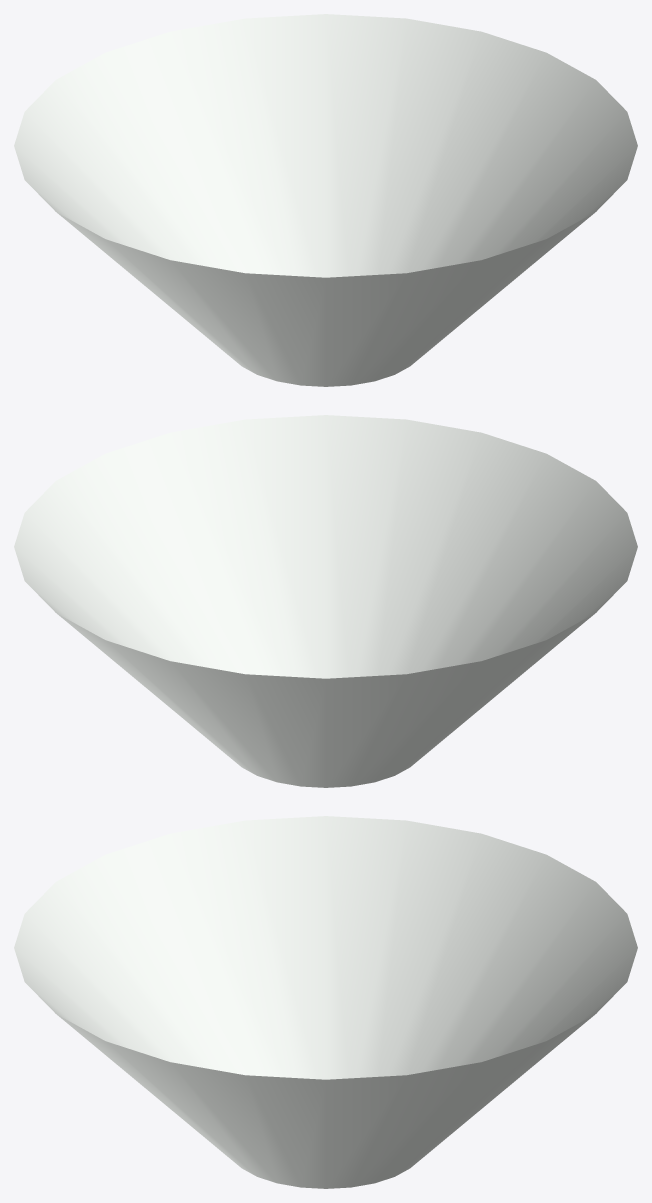
3 views of the same model, one above another, from view 1: azimuth 30°, elevation 25°; view 2: azimuth 150°, elevation 25°; view 3: azimuth 270°, elevation 25° (orthographic).
Parts seen in each view (by area): view 1: Cone001; view 2: Cone001; view 3: Cone001.
Boxes of the visible parts, <box> form: Cone001: <box>14,14,637,386</box>; Cone001: <box>14,415,637,787</box>; Cone001: <box>14,816,637,1188</box>.
Size of the model in its own units: 24.84 by 8.78 by 24.84.
